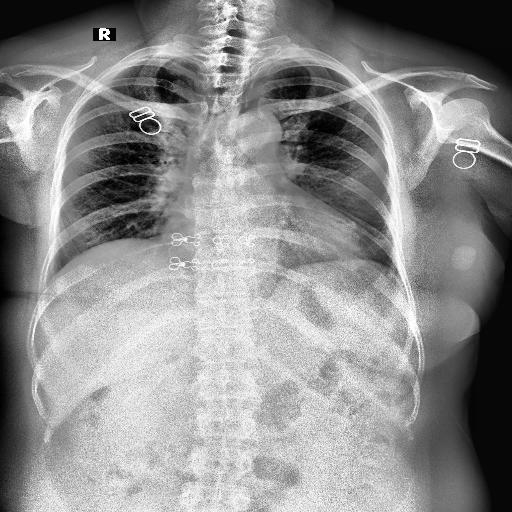0- Aortic enlargement: (232, 108, 281, 160), (236, 110, 280, 157), (235, 108, 280, 150)
3- Cardiomegaly: (158, 213, 382, 265), (156, 208, 360, 260), (158, 218, 365, 260)
9- Other lesion: (448, 244, 476, 272), (447, 246, 479, 270), (452, 243, 478, 271)
